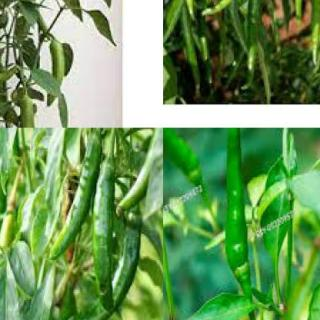green_chilli: (66, 222, 144, 319), (50, 128, 103, 260), (223, 128, 255, 283), (115, 128, 162, 218), (94, 162, 118, 314), (163, 128, 209, 199), (174, 9, 201, 96), (46, 38, 68, 108), (0, 195, 20, 257), (234, 46, 258, 92), (17, 93, 48, 127), (245, 0, 270, 38), (0, 48, 23, 84), (167, 0, 198, 24), (310, 0, 319, 68), (292, 0, 303, 24)
